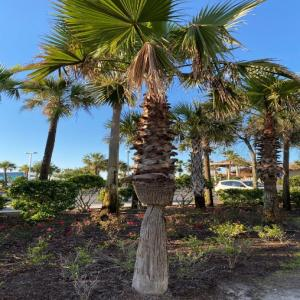palm tree: (168, 98, 241, 209), (19, 75, 91, 180)
